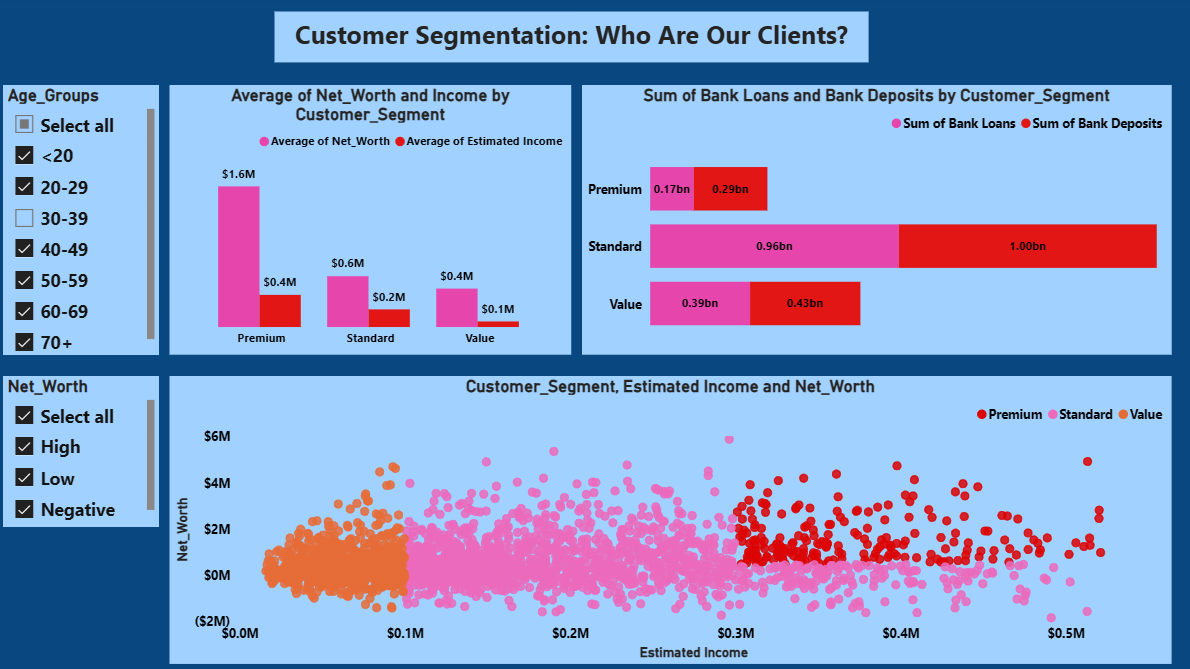

The dashboard page shown, as its layout file describes it:
{"tool":"powerbi","page":{"name":"Customer Segmentation & Value","canvas":[1280,720],"ordinal":1},"visuals":[{"type":"textbox","box":[300.6,17.5,629.9,54.1],"z":0},{"type":"clusteredColumnChart","title":"Average of Net_Worth and Income by Customer_Segment","fields":{"Category":["Banking1.Customer_Segment"],"Y":["Avg(Banking1.Net_Worth)","Avg(Banking1.Estimated Income)"]},"box":[189.3,95.4,426.3,286.3],"z":1000},{"type":"barChart","title":"Sum of Bank Loans and Bank Deposits by Customer_Segment","fields":{"Y":["Sum(Banking1.Bank Loans)","Sum(Banking1.Bank Deposits)"],"Category":["Banking1.Customer_Segment"]},"box":[626.7,95.4,625.1,286.3],"z":2000},{"type":"scatterChart","fields":{"X":["Banking1.Estimated Income"],"Y":["Banking1.Net_Worth"],"Series":["Banking1.Customer_Segment"]},"box":[189.3,404,1062.5,305.4],"z":3000},{"type":"slicer","title":"Age_Groups","fields":{"Values":["Banking1.Age_Groups"]},"box":[12.7,95.4,165.4,286.3],"z":4000},{"type":"slicer","title":"Net_Worth","fields":{"Values":["Banking1.Net_Worth_Category"]},"box":[12.7,404,165.4,159.1],"z":5000}]}

Visuals, with their boxes in screenshot pixels (x1, y1, x2, y2), scaled from the page's 1280x720 canvas onto the 1190x669 screenshot:
textbox: [x1=279, y1=16, x2=865, y2=67]
"Average of Net_Worth and Income by Customer_Segment" clusteredColumnChart: [x1=176, y1=89, x2=572, y2=355]
"Sum of Bank Loans and Bank Deposits by Customer_Segment" barChart: [x1=583, y1=89, x2=1164, y2=355]
scatterChart - Banking1.Estimated Income x Banking1.Net_Worth: [x1=176, y1=375, x2=1164, y2=659]
"Age_Groups" slicer: [x1=12, y1=89, x2=166, y2=355]
"Net_Worth" slicer: [x1=12, y1=375, x2=166, y2=523]
